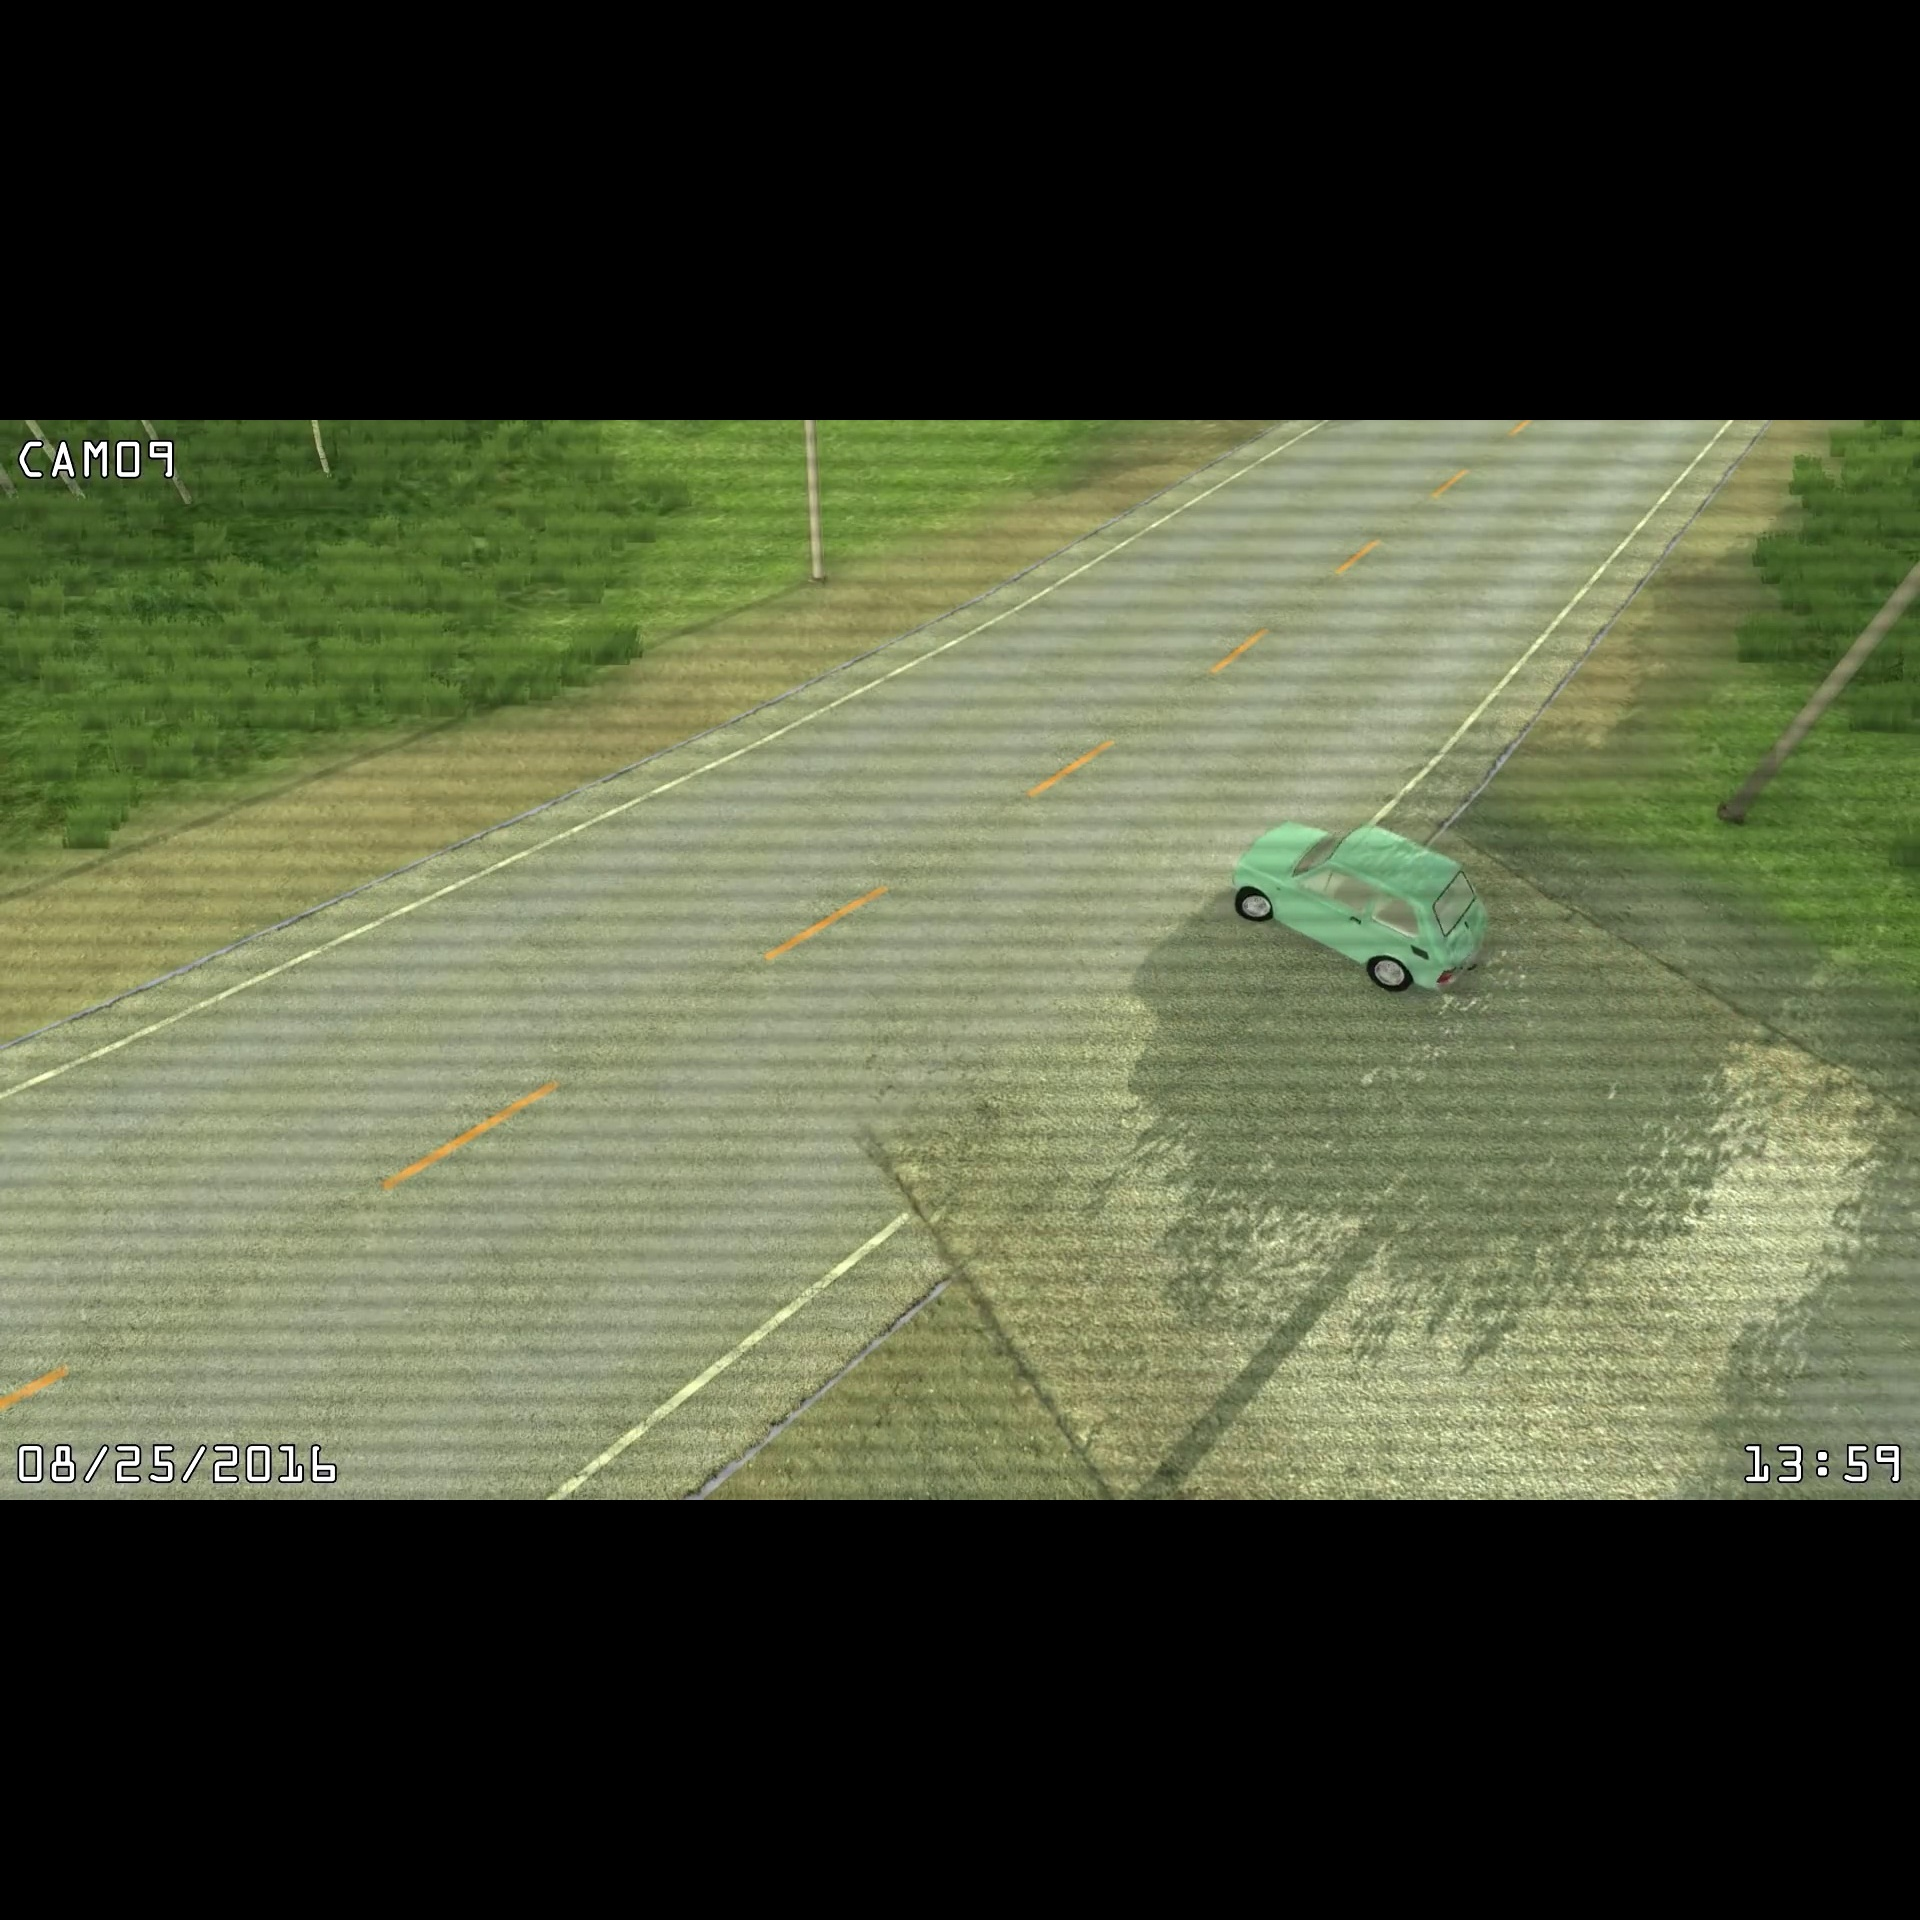vehicle: (1225, 807, 1498, 1000)
